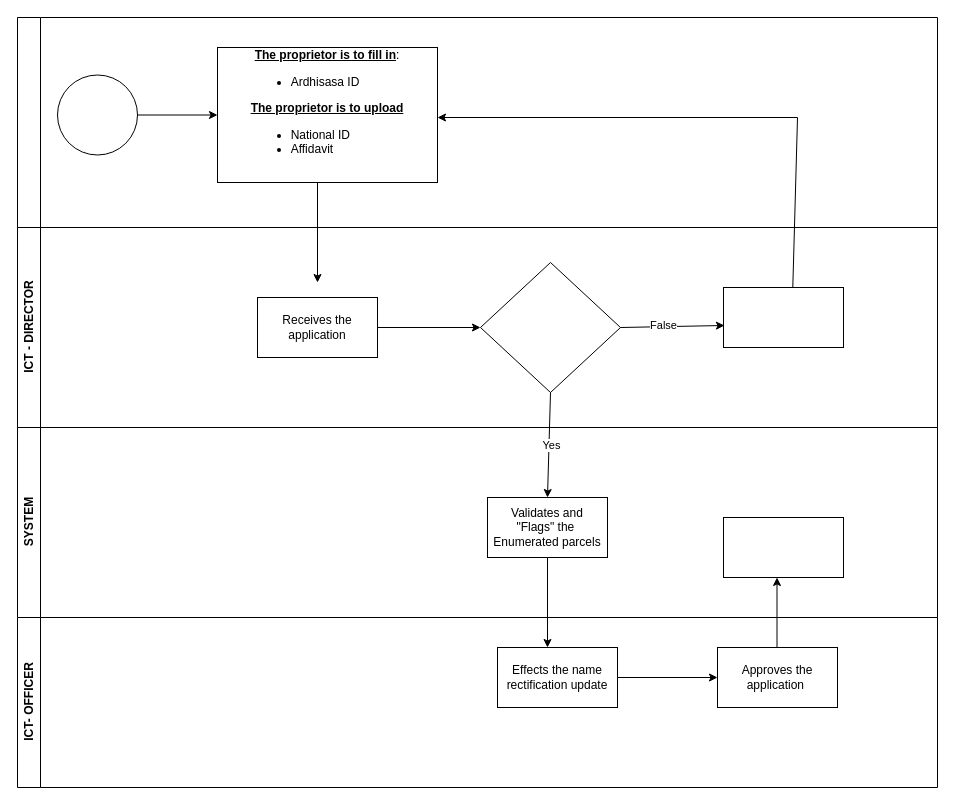
Image size: 955x805. Some labels were removed from this diagram. The shapes that lost their labels are listed below. From the top down, each one's box as (x1, y1, x2, y2) in pixels, then its label:
(16, 16, 938, 228): APPLICANT(S)- PROPRIETOR
(480, 262, 620, 392): Verifies if the details and uploaded documents are correct
(722, 286, 844, 348): To return to the Applicant.
(722, 516, 844, 578): To Unflag the enumerated parcels.
